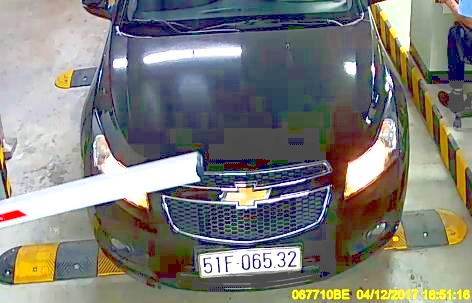plate: (197, 242, 308, 278)
